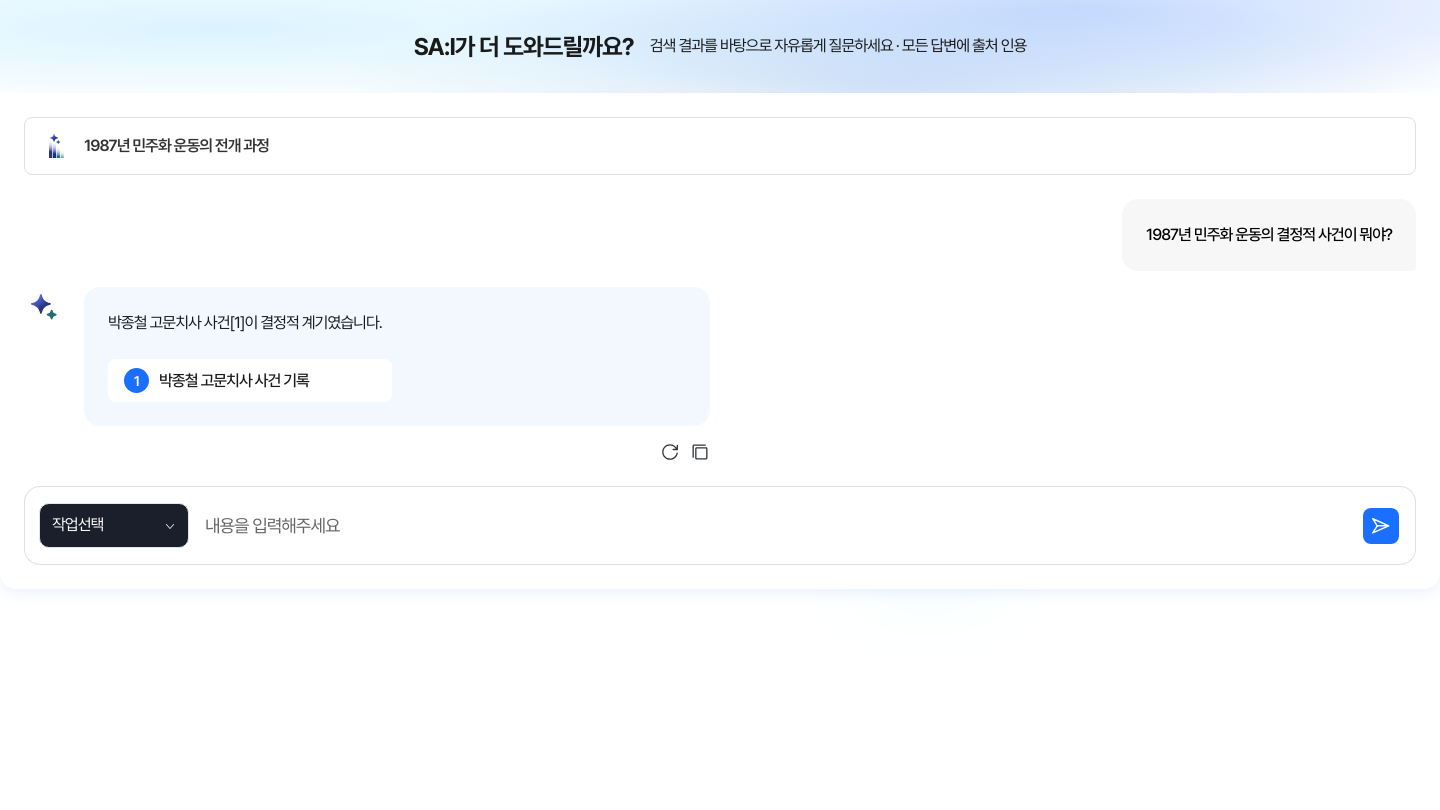
Test: ChatView — 라이브 전송과 액션 토스트 › "다시 생성" 클릭 시 "준비 중입니다" 토스트가 뜬다(실동작 없음)
This screenshot has width=1440, height=810.
Click the button named "다시 생성": [670, 452] box [660,442,680,462]
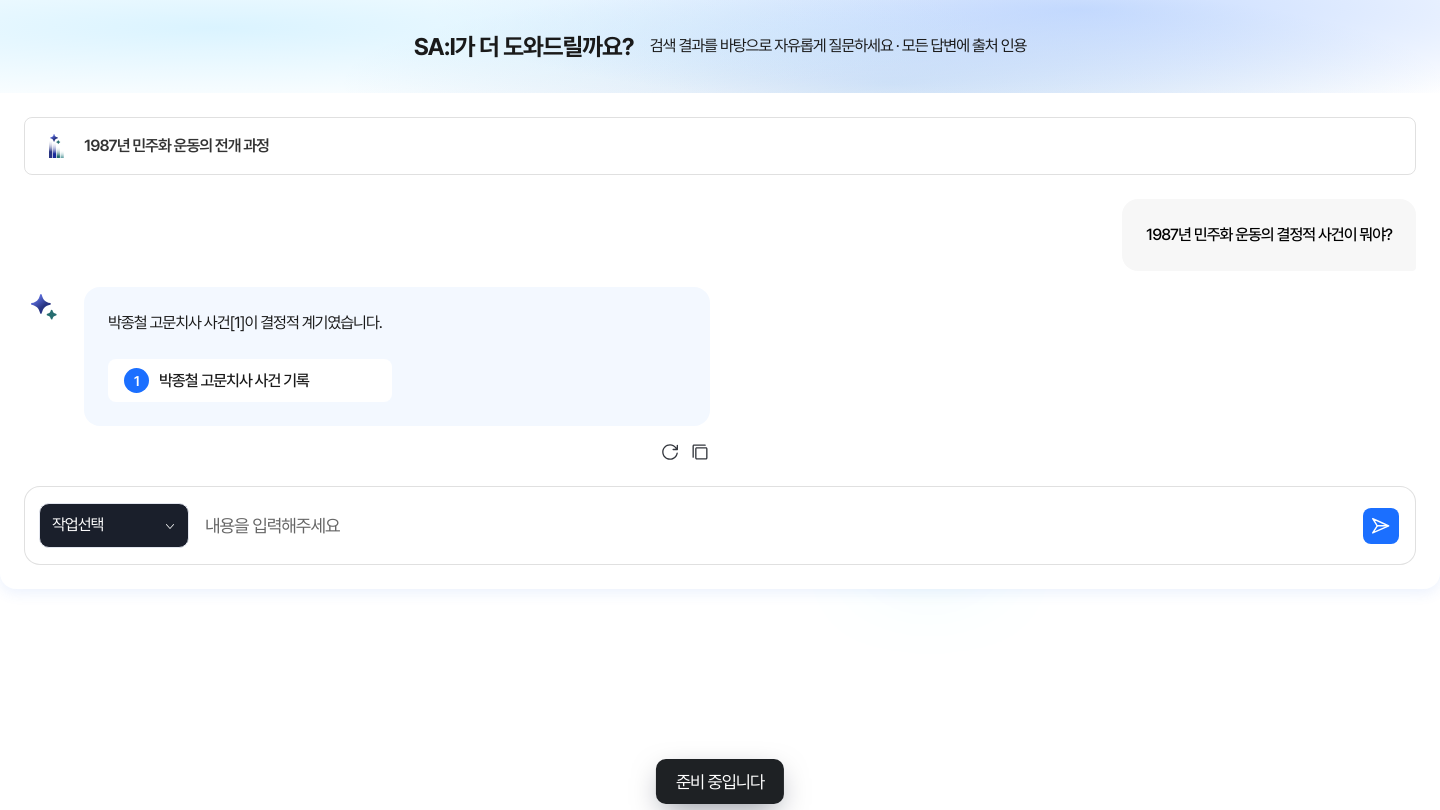
Result: the text "준비 중입니다" is shown at [656,759,784,804]
